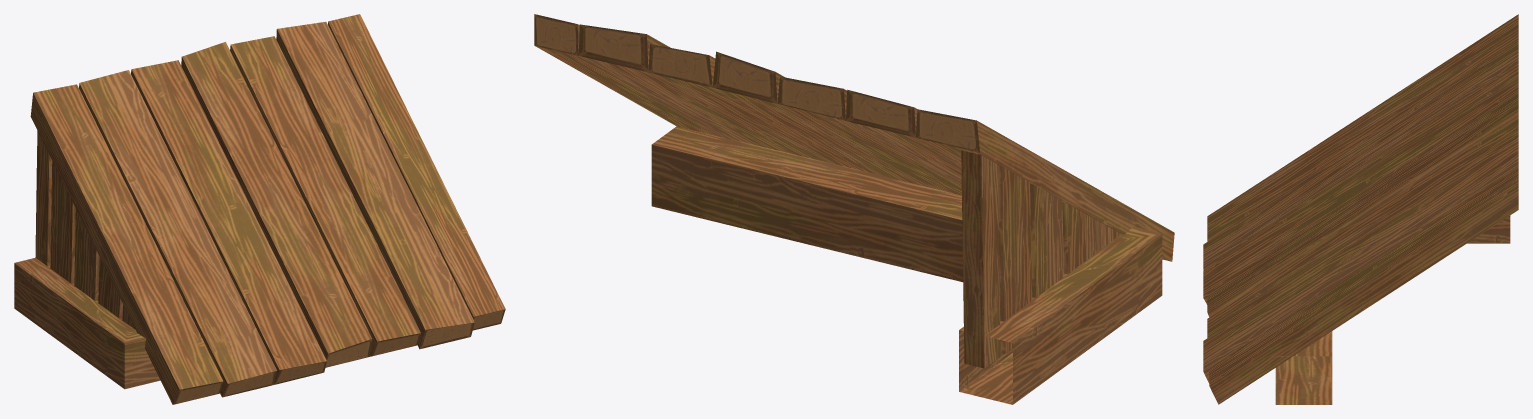
Rendered from Roof_Wooden_2x1_L.gltf.
3 views of the same model, side by side, from view 1: azimuth 30°, elevation 25°; view 2: azimuth 150°, elevation 25°; view 3: azimuth 270°, elevation 25° (orthographic). The views are drawn at different scales.
Visible parts, largest first — view 1: Roof_Wooden_2x1_L; view 2: Roof_Wooden_2x1_L; view 3: Roof_Wooden_2x1_L.
Part boxes in pixels (bbox=[...]): Roof_Wooden_2x1_L: bbox=[14, 14, 505, 404]; Roof_Wooden_2x1_L: bbox=[534, 14, 1174, 404]; Roof_Wooden_2x1_L: bbox=[1203, 14, 1518, 404].
Bounding box in the file's own units: 2.13 × 1.25 × 1.56.
2 materials, 2 textured.
